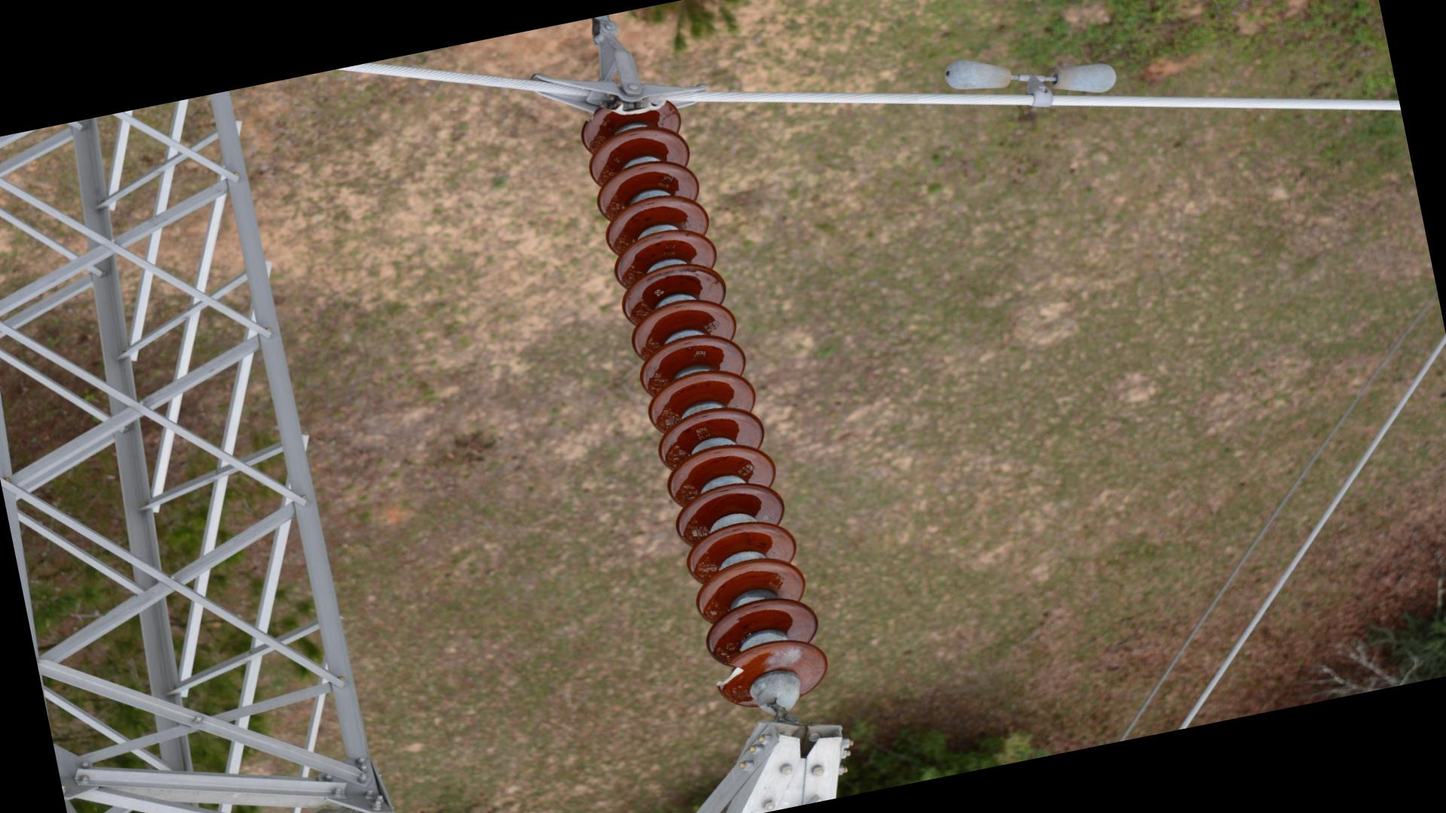damper: (938, 24, 1123, 132), (890, 1, 1072, 2)
